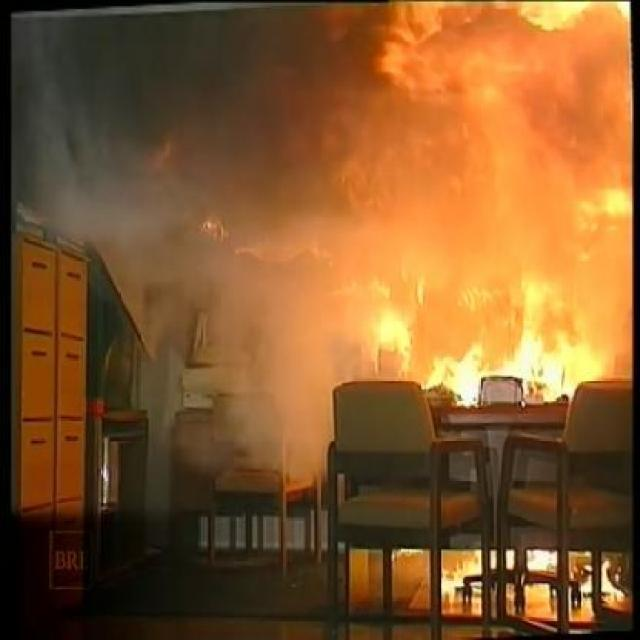fire: (340, 33, 628, 372)
smoke: (161, 274, 347, 482), (23, 39, 196, 256)
